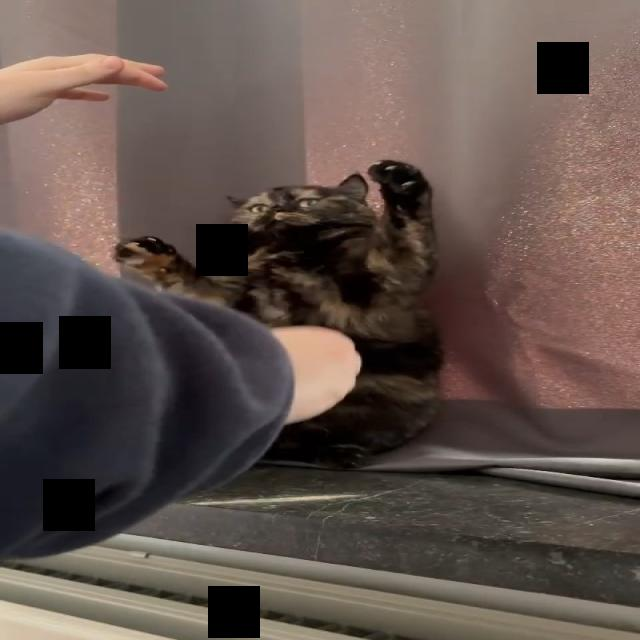authorized: (112, 158, 445, 470)
